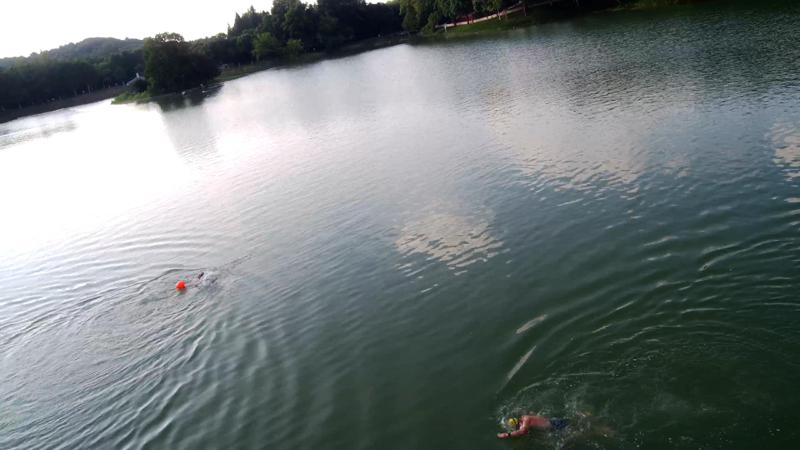swimmers: (496, 412, 586, 441)
